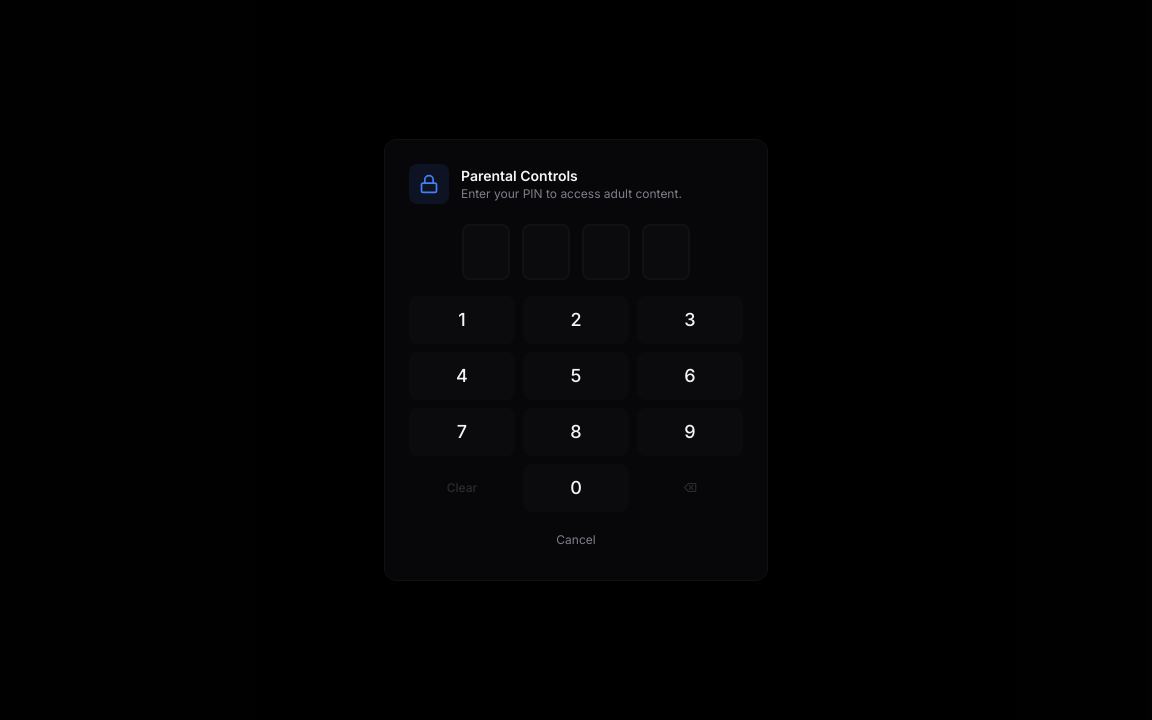
Test: PinPrompt › shows an error and clears the PIN on an incorrect pin
The image size is (1152, 720).
Click the button "9" at (690, 432), box left=637, top=408, right=743, bottom=456
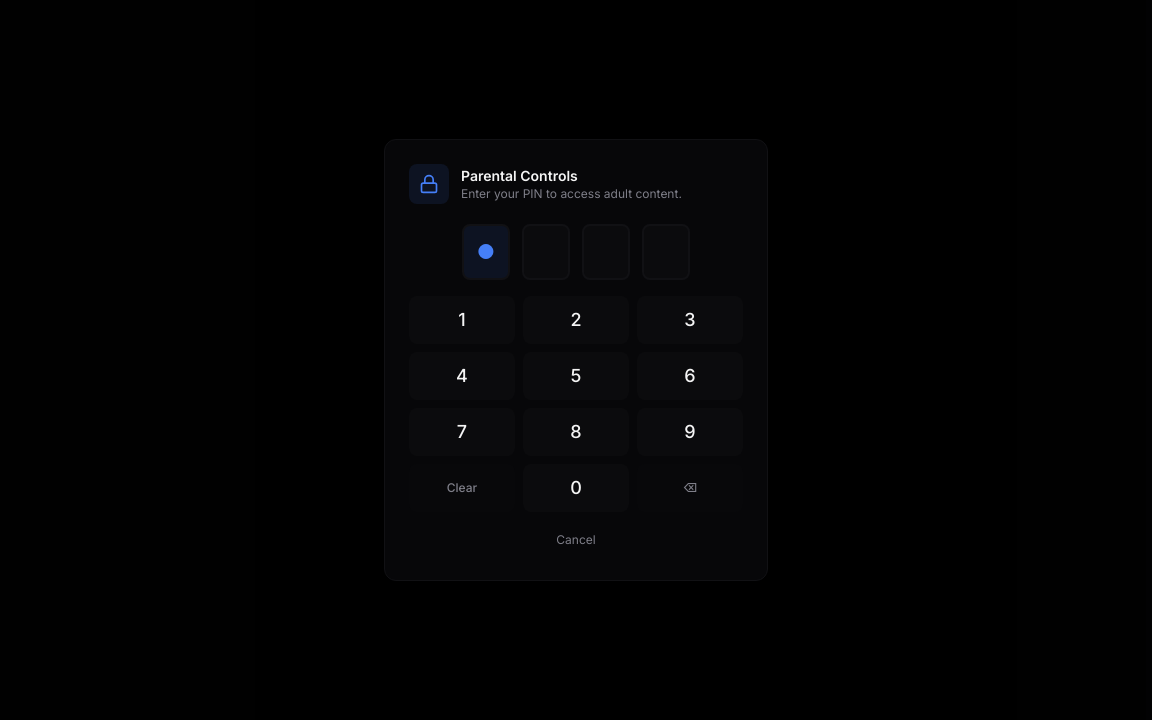
Click the button "9" at (690, 432), box left=637, top=408, right=743, bottom=456
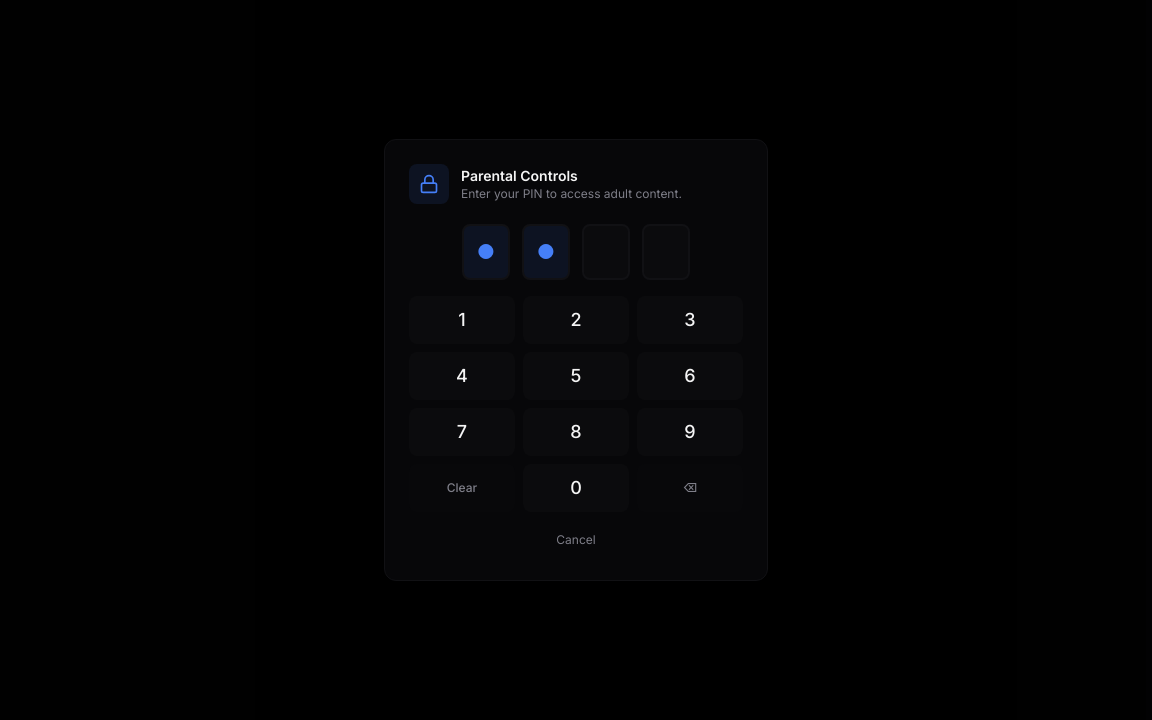
Click the button "9" at (690, 432), box left=637, top=408, right=743, bottom=456
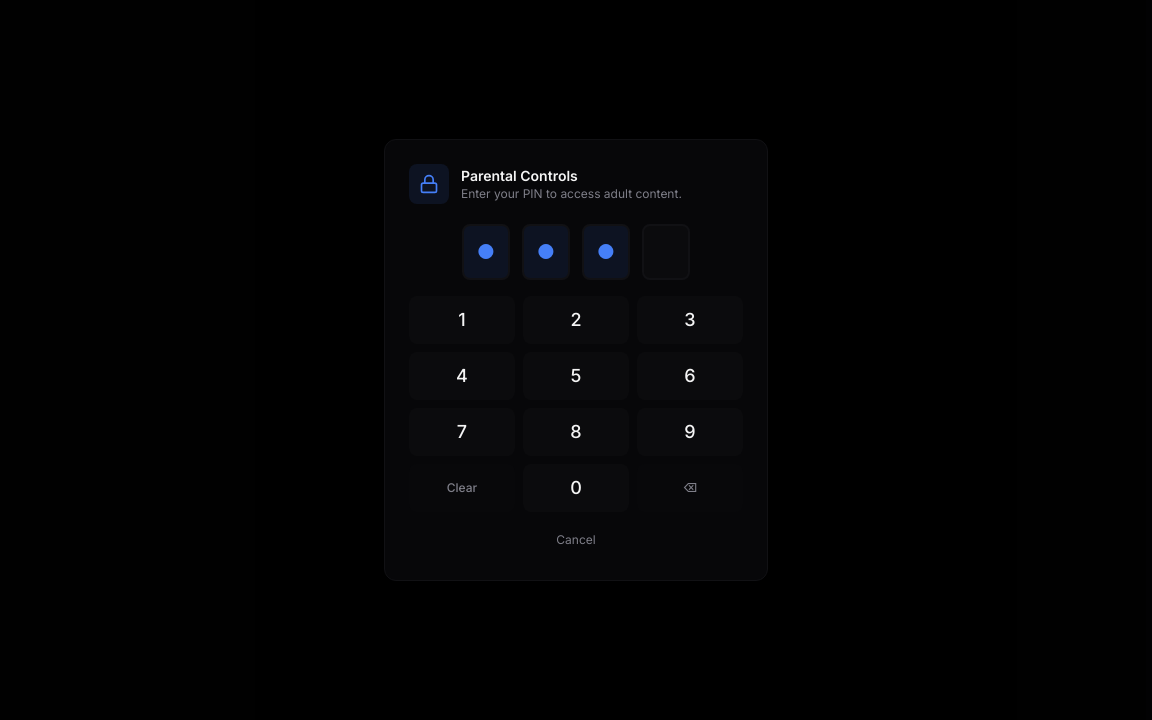
Click the button "9" at (690, 432), box left=637, top=408, right=743, bottom=456
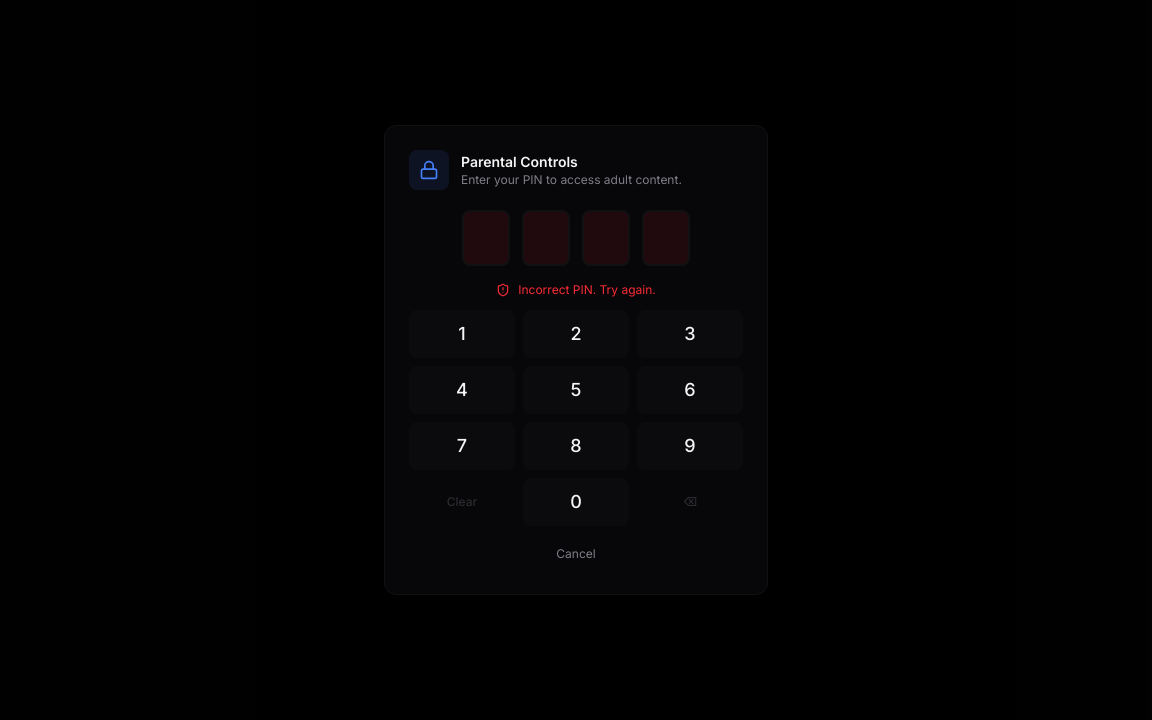
Now the text "Incorrect PIN. Try again." is shown, box left=496, top=282, right=656, bottom=297
Now the text "●" is not shown
